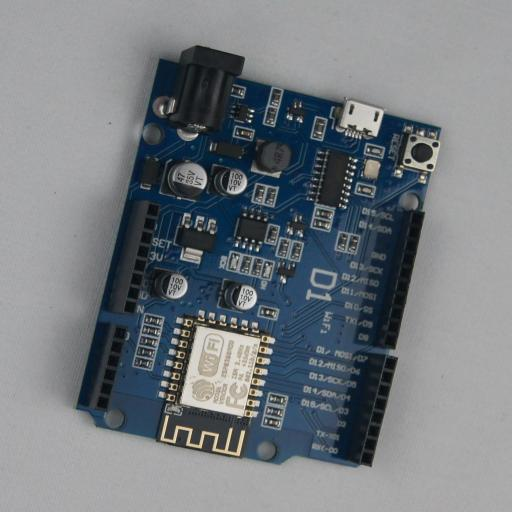Arduino Uno WiFi Shield: (76, 45, 441, 467)
